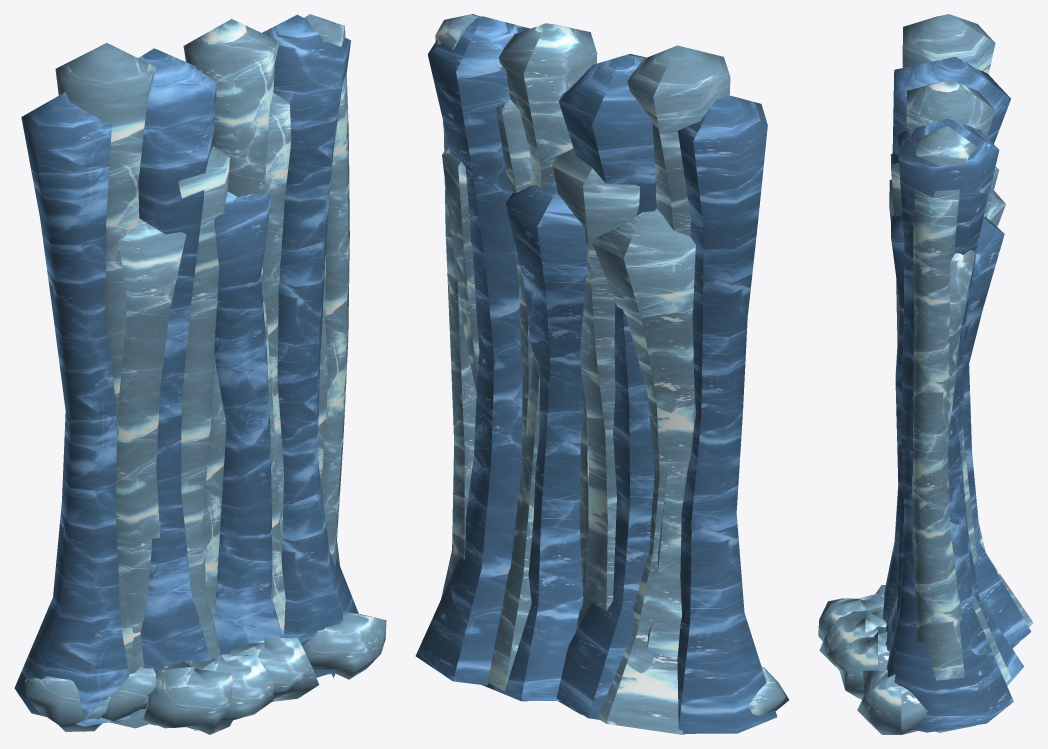
File: cw_ice_column_b.glb
3 views of the same model, side by side, from view 1: azimuth 30°, elevation 25°; view 2: azimuth 150°, elevation 25°; view 3: azimuth 270°, elevation 25° (orthographic). The views are drawn at different scales.
Visible parts, largest first — view 1: cw_ice_column_b; view 2: cw_ice_column_b; view 3: cw_ice_column_b.
Boxes of the visible parts, x1,y1,x2,y2 form: cw_ice_column_b: [14, 14, 386, 734]; cw_ice_column_b: [415, 14, 788, 734]; cw_ice_column_b: [818, 14, 1033, 734].
Size of the model in its own units: 2.09 by 3.82 by 1.19.
Materials: 1 (1 with a texture image).
